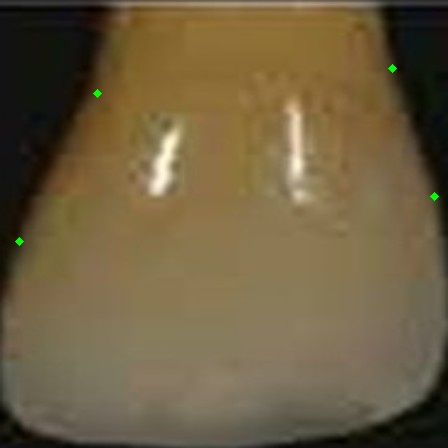coin_1: (97, 93, 117, 113)
coin_2: (19, 241, 39, 261)
coin_3: (392, 68, 412, 88)
coin_4: (434, 196, 448, 216)
